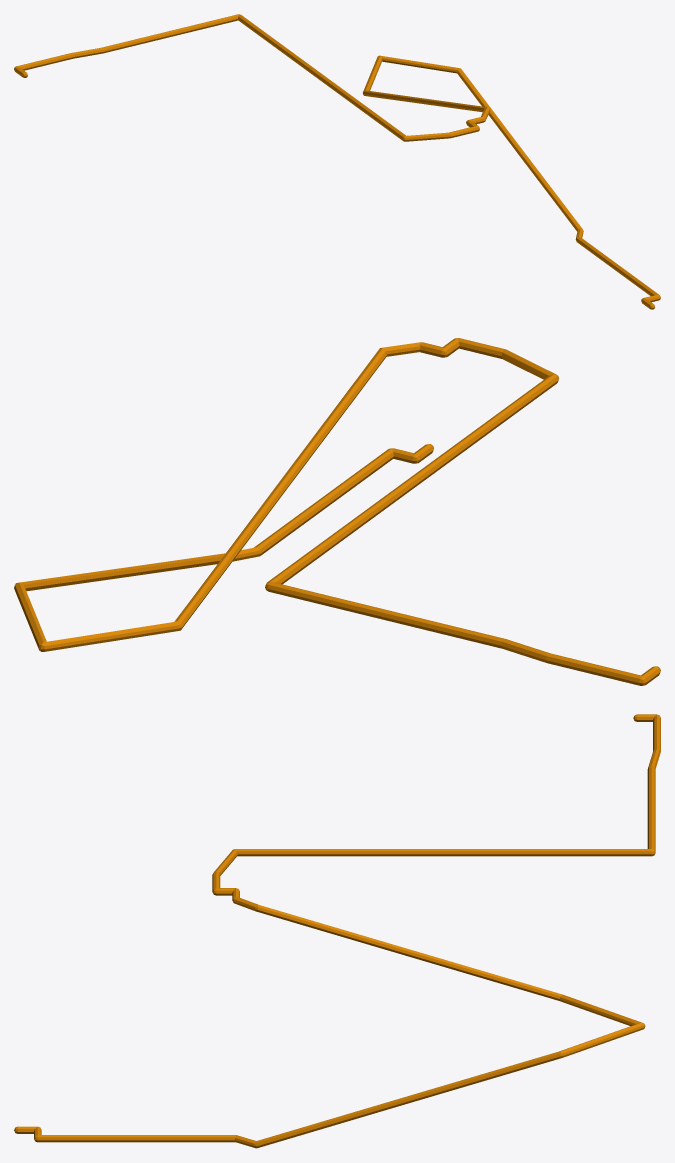
3 renders of one model, top to bottom at view 1: azimuth 30°, elevation 25°; view 2: azimuth 150°, elevation 25°; view 3: azimuth 270°, elevation 25°, orthographic. The views are drawn at different scales.
Size of the model in its own units: 1492 by 520 by 1631.
